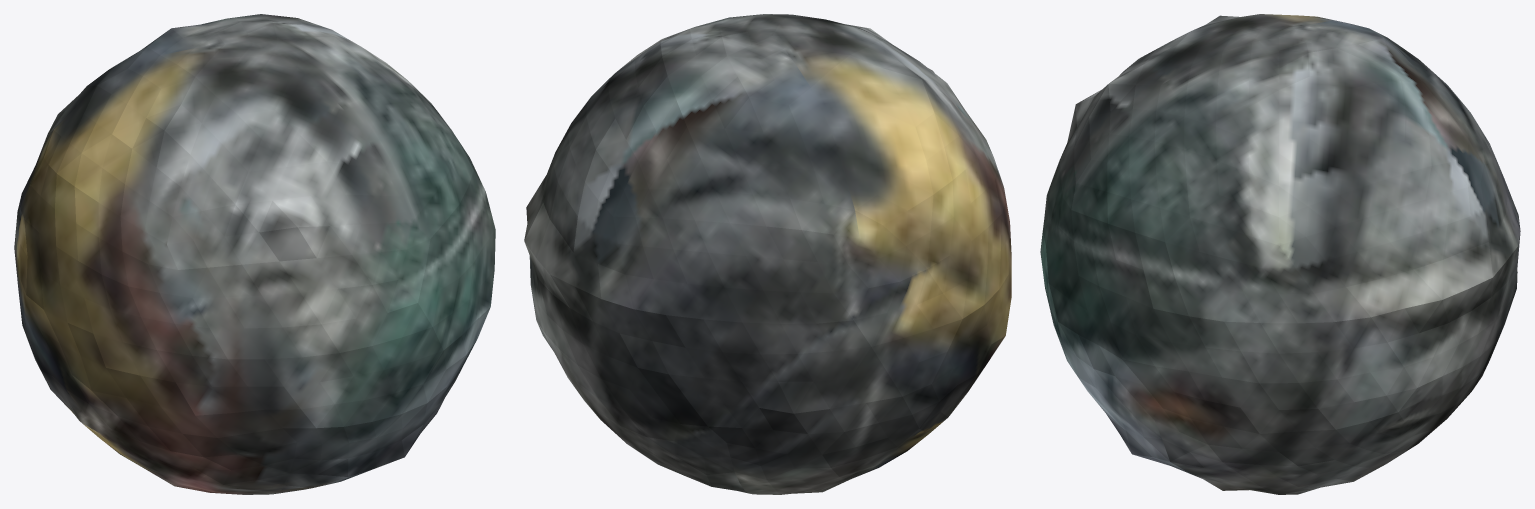
Rendered from lintball.glb.
The picture shows the model from 3 angles, left to right: view 1: azimuth 30°, elevation 25°; view 2: azimuth 150°, elevation 25°; view 3: azimuth 270°, elevation 25°; orthographic projection.
Parts seen in each view (by area): view 1: Icosphere; view 2: Icosphere; view 3: Icosphere.
Boxes of the visible parts, x1=… form: Icosphere: x1=14, y1=14, x2=495, y2=494; Icosphere: x1=524, y1=14, x2=1011, y2=494; Icosphere: x1=1040, y1=14, x2=1520, y2=494.
Size of the model in its own units: 6.22 by 6.15 by 6.18.
Materials: 1 (1 with a texture image).
